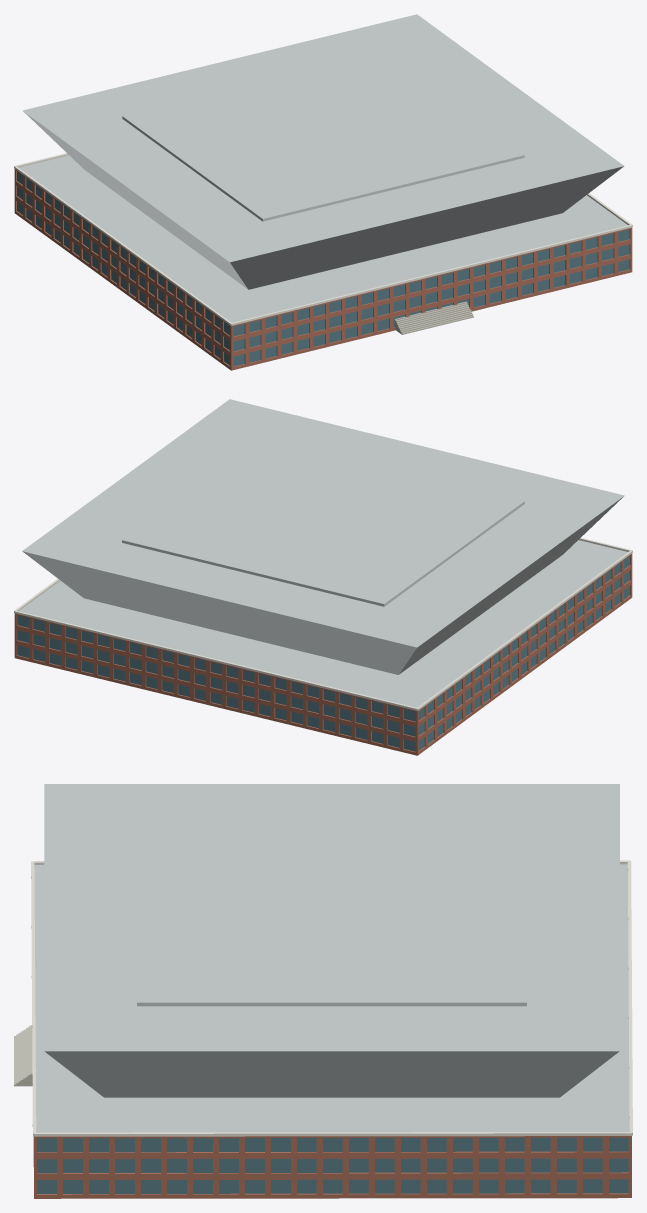
File: gym.far.glb
3 views of the same model, one above another, from view 1: azimuth 30°, elevation 25°; view 2: azimuth 150°, elevation 25°; view 3: azimuth 270°, elevation 25° (orthographic). The views are drawn at different scales.
Visible parts, largest first — view 1: roof, wall, glass, trim, paving; view 2: roof, wall, glass, trim; view 3: roof, glass, wall, trim, paving.
Part boxes in pixels (x1,y1,x2,y2): roof: [19, 14, 627, 322]; wall: [14, 169, 632, 370]; glass: [17, 171, 629, 366]; trim: [14, 153, 632, 325]; paving: [394, 301, 473, 334]; roof: [19, 399, 627, 707]; wall: [14, 553, 632, 755]; glass: [17, 556, 629, 751]; trim: [14, 537, 632, 710]; roof: [34, 784, 629, 1132]; glass: [37, 1137, 628, 1193]; wall: [33, 1136, 631, 1198]; trim: [31, 860, 632, 1136]; paving: [14, 1025, 32, 1086].
Size of the model in its own units: 95.6 by 24.2 by 91.41.
